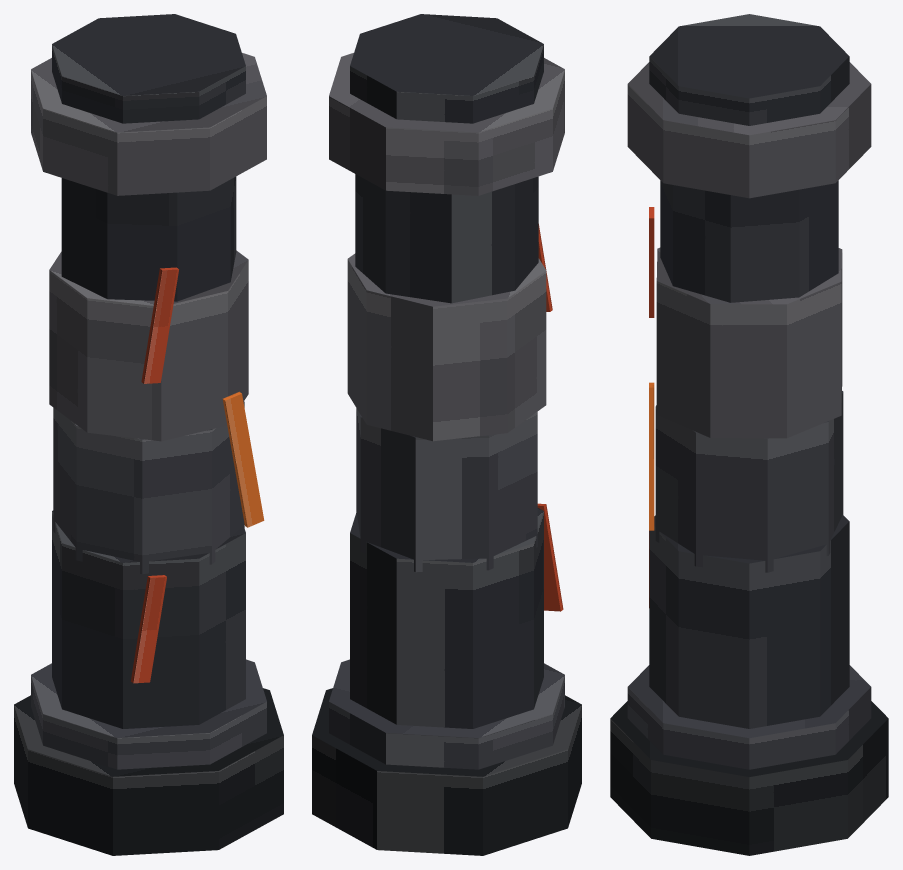
The model's file is basalt_pillar.glb.
3 renders of one model, left to right at view 1: azimuth 30°, elevation 25°; view 2: azimuth 150°, elevation 25°; view 3: azimuth 270°, elevation 25°, orthographic.
Parts seen in each view (by area): view 1: BasaltSegment_1, BasaltSegment_3, PillarBase, BasaltSegment_2, PillarCap, BasaltSegment_4, PillarCrown, PillarBaseTrim, MagmaCrack_2, MagmaCrack_3, MagmaCrack_1; view 2: BasaltSegment_1, BasaltSegment_3, PillarBase, BasaltSegment_2, BasaltSegment_4, PillarCap, PillarCrown, PillarBaseTrim, MagmaCrack_1; view 3: BasaltSegment_1, BasaltSegment_3, PillarBase, BasaltSegment_2, PillarCap, BasaltSegment_4, PillarCrown, PillarBaseTrim, MagmaCrack_2, MagmaCrack_3.
Boxes of the visible parts, <box> form: BasaltSegment_1: <box>52,510,245,728</box>; BasaltSegment_3: <box>49,250,248,441</box>; PillarBase: <box>14,688,283,855</box>; BasaltSegment_2: <box>53,401,244,574</box>; PillarCap: <box>31,53,266,195</box>; BasaltSegment_4: <box>61,176,236,301</box>; PillarCrown: <box>52,14,245,123</box>; PillarBaseTrim: <box>31,659,266,769</box>; MagmaCrack_2: <box>222,391,264,527</box>; MagmaCrack_3: <box>141,267,178,383</box>; MagmaCrack_1: <box>130,575,166,683</box>; BasaltSegment_1: <box>350,508,543,728</box>; BasaltSegment_3: <box>347,253,546,441</box>; PillarBase: <box>312,688,581,855</box>; BasaltSegment_2: <box>356,408,537,572</box>; BasaltSegment_4: <box>355,174,538,303</box>; PillarCap: <box>329,53,564,195</box>; PillarCrown: <box>350,14,543,123</box>; PillarBaseTrim: <box>329,659,564,769</box>; MagmaCrack_1: <box>537,503,563,611</box>; BasaltSegment_1: <box>649,515,849,728</box>; BasaltSegment_3: <box>656,247,842,438</box>; PillarBase: <box>610,701,888,855</box>; BasaltSegment_2: <box>655,391,843,572</box>; PillarCap: <box>627,62,871,198</box>; BasaltSegment_4: <box>660,180,838,302</box>; PillarCrown: <box>649,14,849,125</box>; PillarBaseTrim: <box>627,665,871,769</box>; MagmaCrack_2: <box>649,382,654,530</box>; MagmaCrack_3: <box>649,207,654,317</box>.
Size of the model in its own units: 0.64 by 1.88 by 0.64.
1 material, 1 textured.
